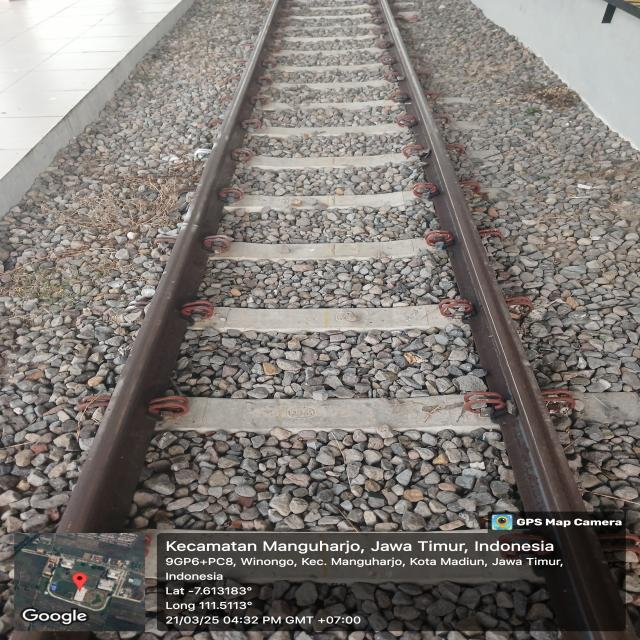rail-detection: (386, 17, 626, 640), (59, 0, 280, 532)
